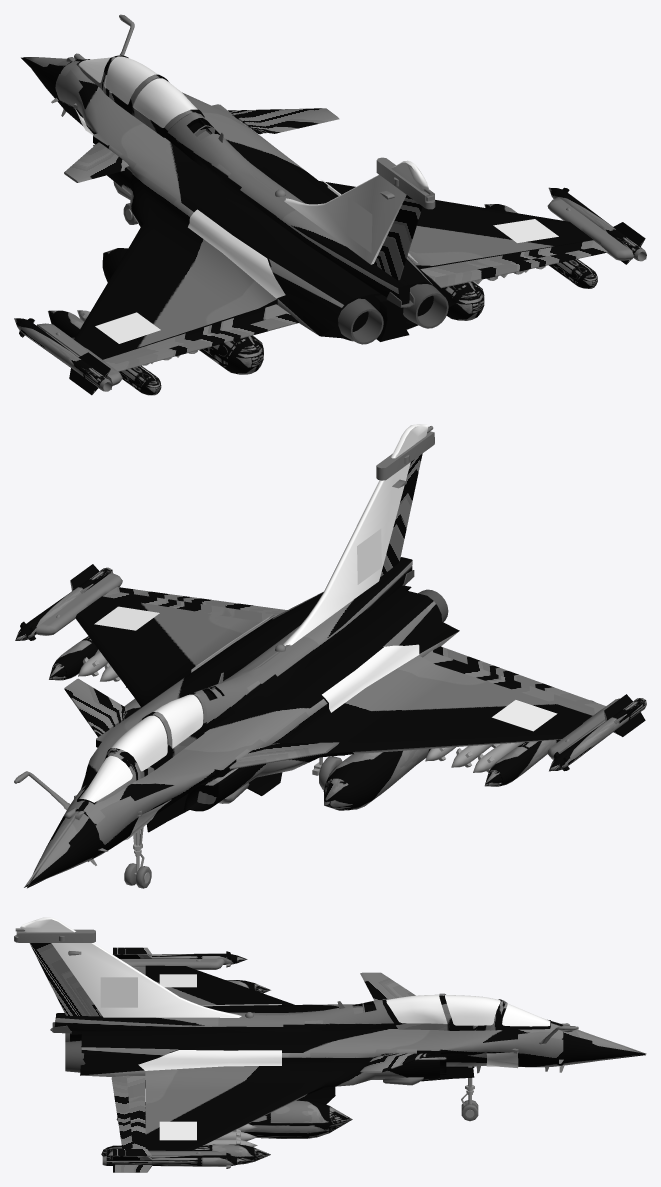
File: feiji.glb
The picture shows the model from 3 angles, top to bottom: view 1: azimuth 30°, elevation 25°; view 2: azimuth 150°, elevation 25°; view 3: azimuth 270°, elevation 25°; orthographic projection. The views are drawn at different scales.
Visible parts, largest first — view 1: carcasse, Details, Stickers, Queue, Polygon_1_2, Polygon_2, Verrière_arrière, Missile_H, Missile_L, Polygon_2_2, Polygon, Missile_F (+5 smaller); view 2: carcasse, Stickers, Queue, Details, Missile_L, Verrière_arrière, Polygon_1_2, Polygon_2, Missile_H, Polygon, Missile_J, Polygon_1 (+6 smaller); view 3: carcasse, Queue, Stickers, Details, Verrière_arrière, Missile_A, Polygon_2_2, Polygon_2, Missile_F, Cockpit_arrière, Missile_H, Polygon_1 (+5 smaller).
Boxes of the visible parts, box(x1,y1,x2,y2) form: carcasse: box(21, 57, 593, 359); Details: box(36, 14, 633, 385); Stickers: box(75, 109, 558, 343); Queue: box(284, 160, 428, 264); Polygon_1_2: box(103, 304, 298, 371); Polygon_2: box(420, 240, 607, 288); Verrière_arrière: box(105, 56, 197, 127); Missile_H: box(14, 318, 112, 395); Missile_L: box(102, 248, 263, 374); Polygon_2_2: box(374, 195, 422, 280); Polygon: box(228, 108, 339, 134); Missile_F: box(548, 187, 646, 264); carcasse: box(24, 557, 592, 888); Stickers: box(83, 529, 557, 840); Queue: box(283, 424, 428, 645); Details: box(14, 426, 619, 865); Missile_L: box(323, 749, 430, 810); Verrière_arrière: box(111, 694, 203, 771); Polygon_1_2: box(423, 646, 605, 715); Polygon_2: box(103, 587, 287, 621); Missile_H: box(549, 694, 646, 771); Polygon: box(64, 678, 129, 736); Missile_J: box(484, 700, 594, 786); Polygon_1: box(228, 742, 339, 769); carcasse: box(54, 965, 646, 1150); Queue: box(20, 917, 241, 1017); Stickers: box(100, 974, 518, 1140); Details: box(14, 928, 578, 1155); Verrière_arrière: box(386, 994, 500, 1025); Missile_A: box(116, 1100, 352, 1138); Polygon_2_2: box(29, 943, 102, 1016); Polygon_2: box(111, 1075, 145, 1148); Missile_F: box(102, 1149, 247, 1172); Cockpit_arrière: box(382, 993, 505, 1030); Missile_H: box(113, 947, 247, 967); Polygon_1: box(360, 972, 415, 1000).
Bounding box in the file's own units: 5.82 × 2.6 × 7.43.
8 materials, 3 textured.
